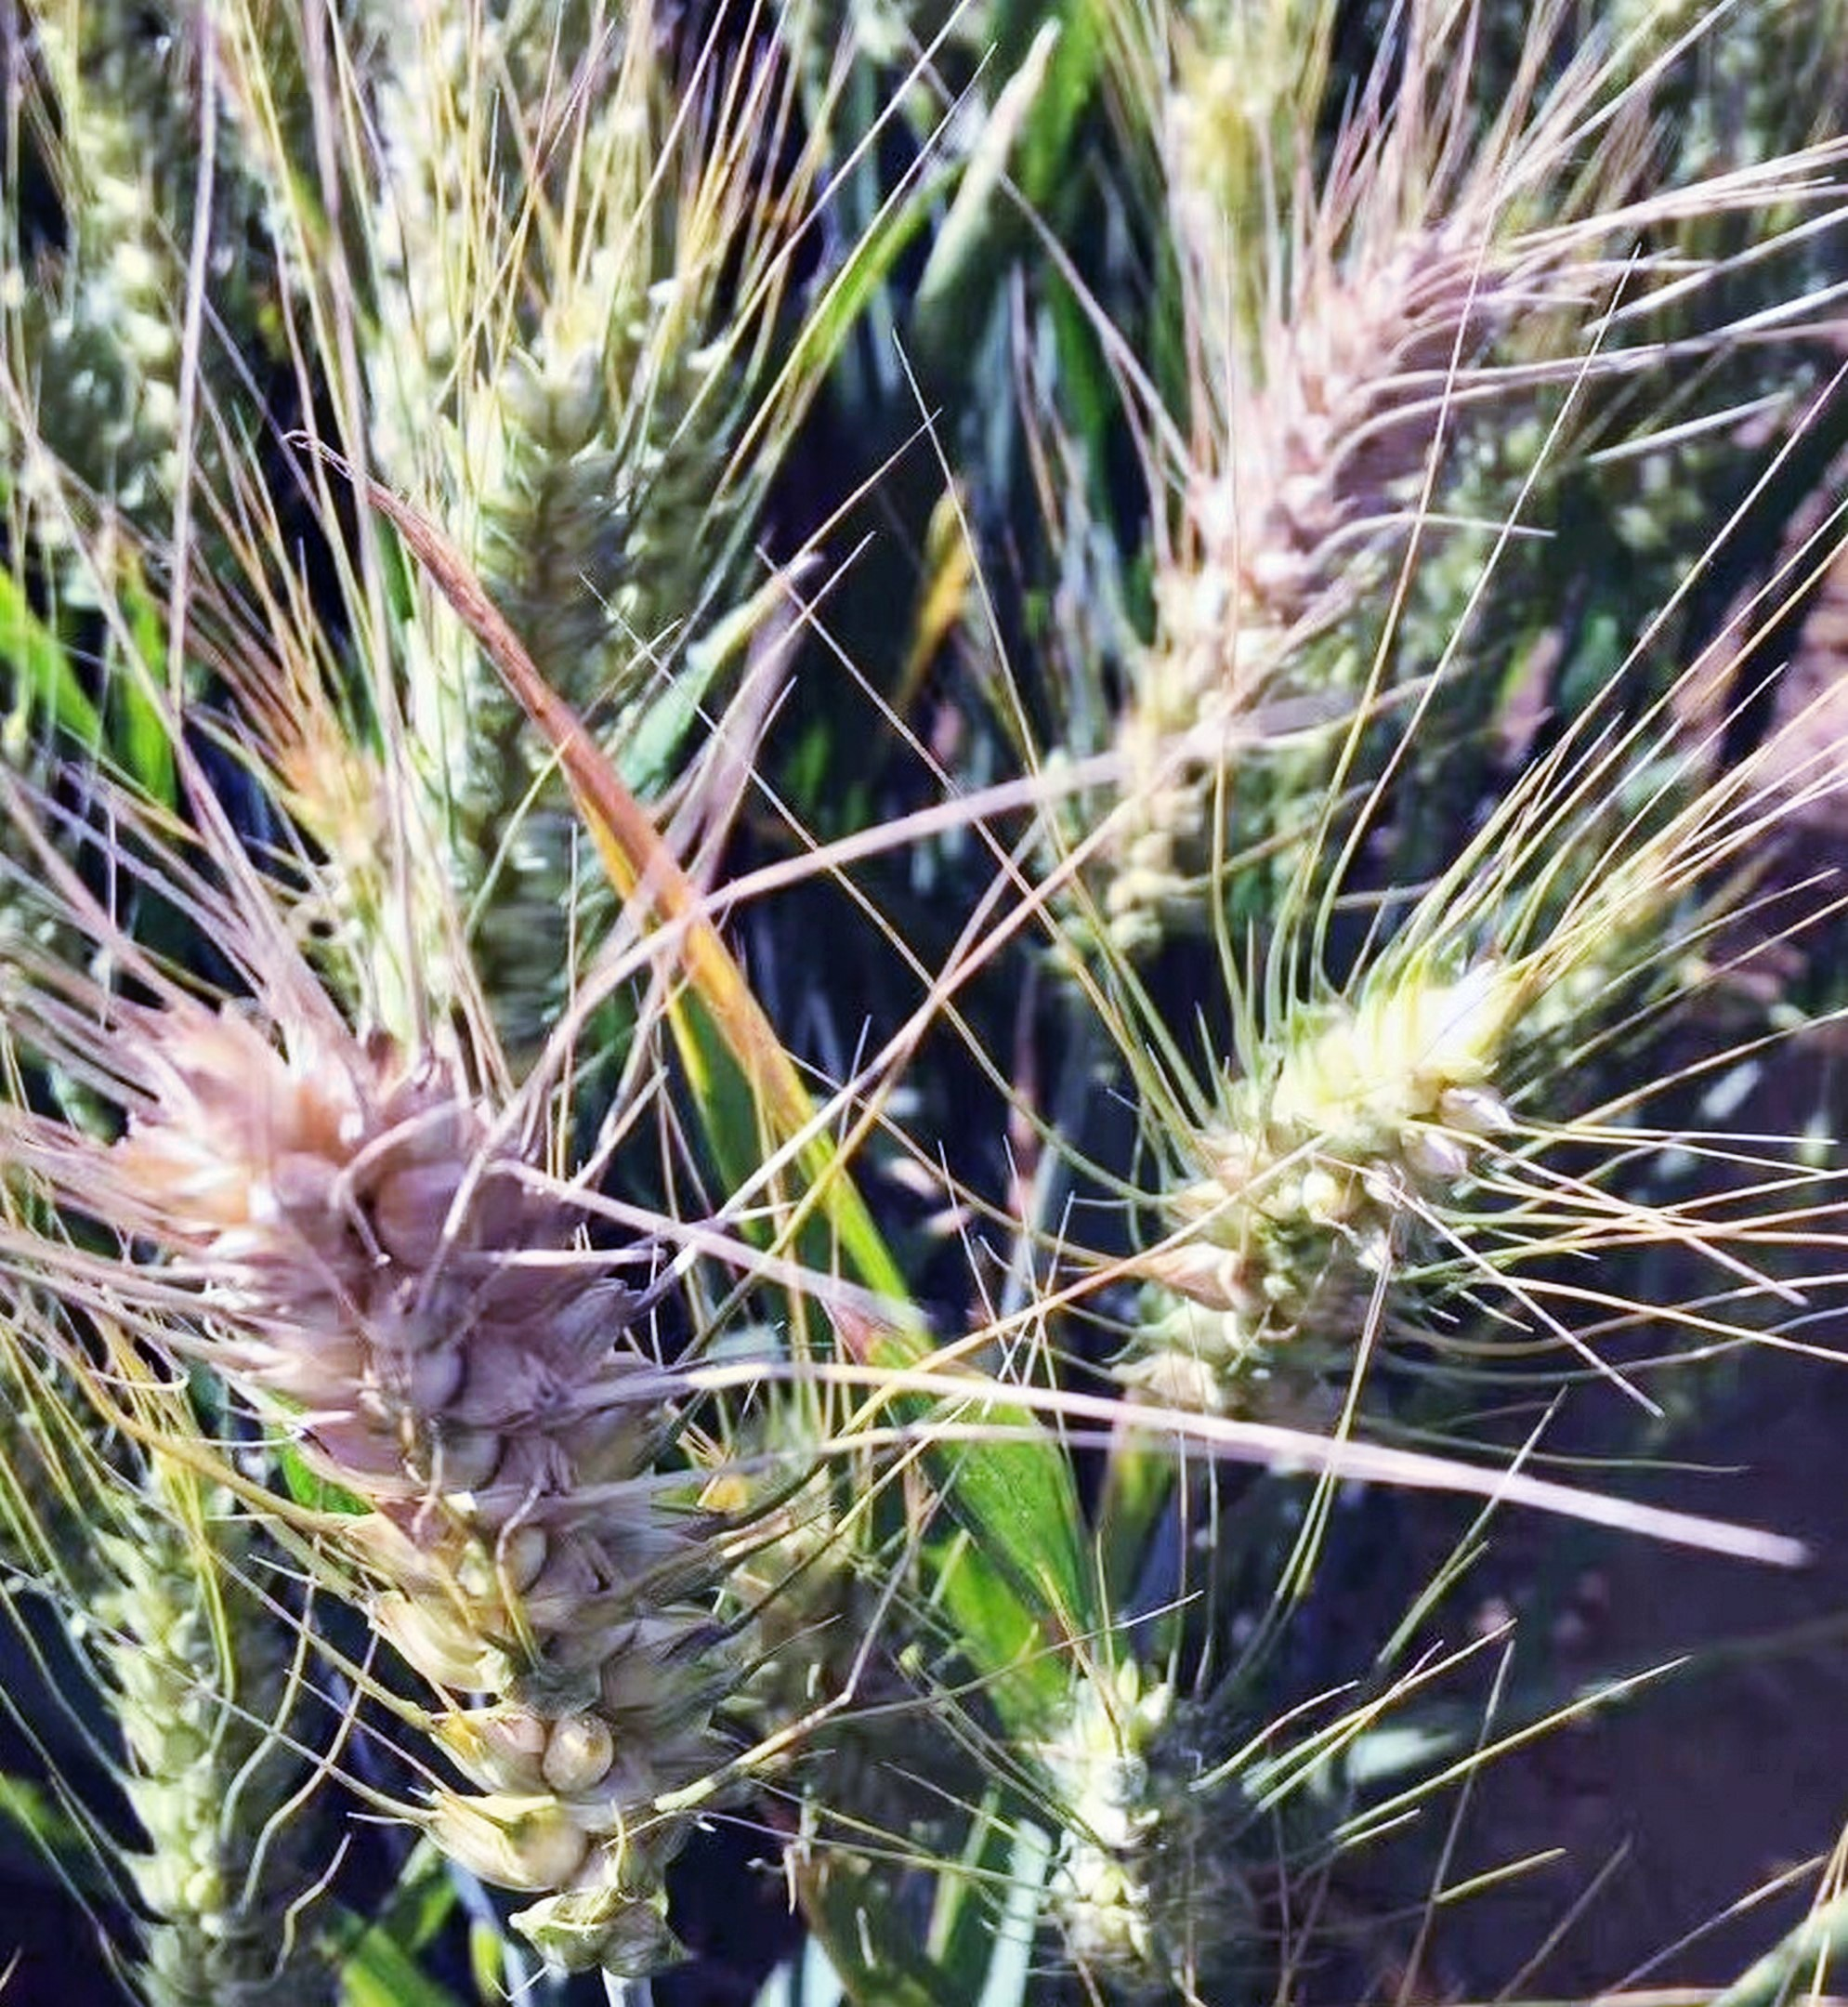Wheat scab: (114, 1030, 764, 1834)
